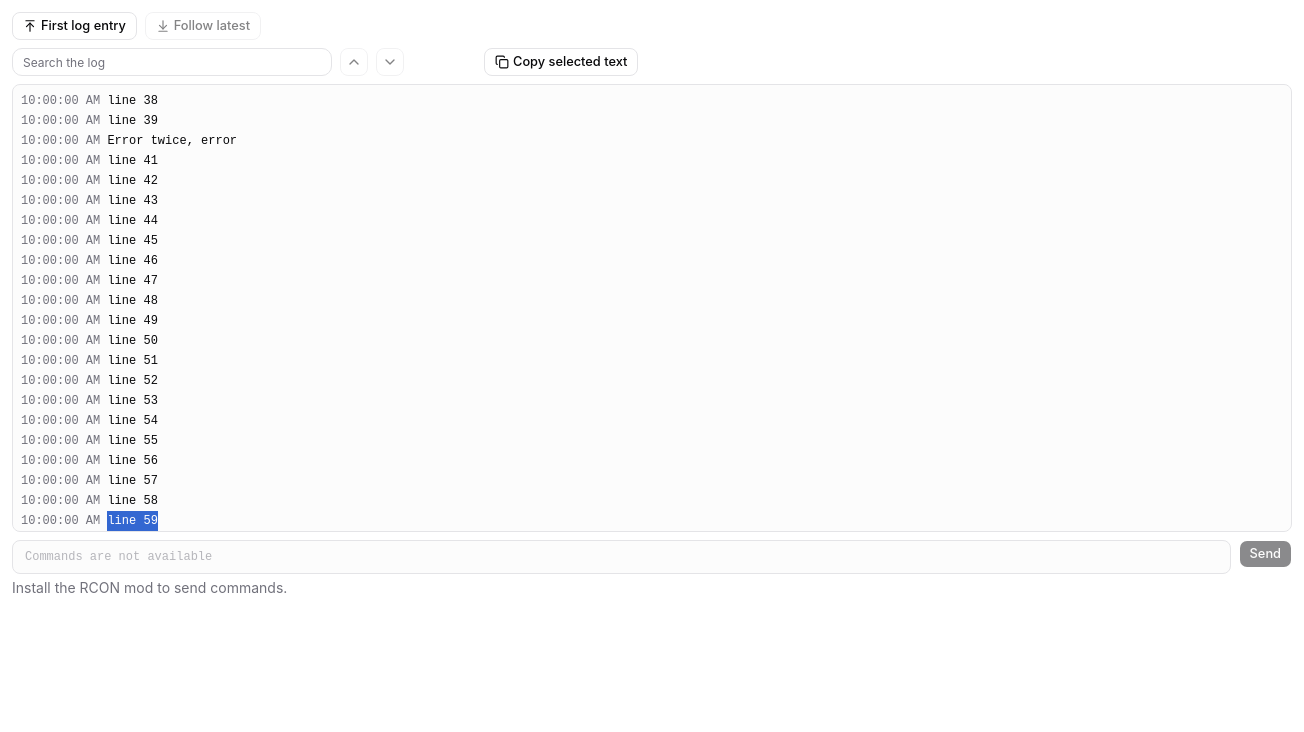
Scenario: copying the selected text › says the copy was refused and what to do instead
(page scrolled)
Click the button "Copy selected text". click: (561, 62)
box: [484, 48, 638, 76]
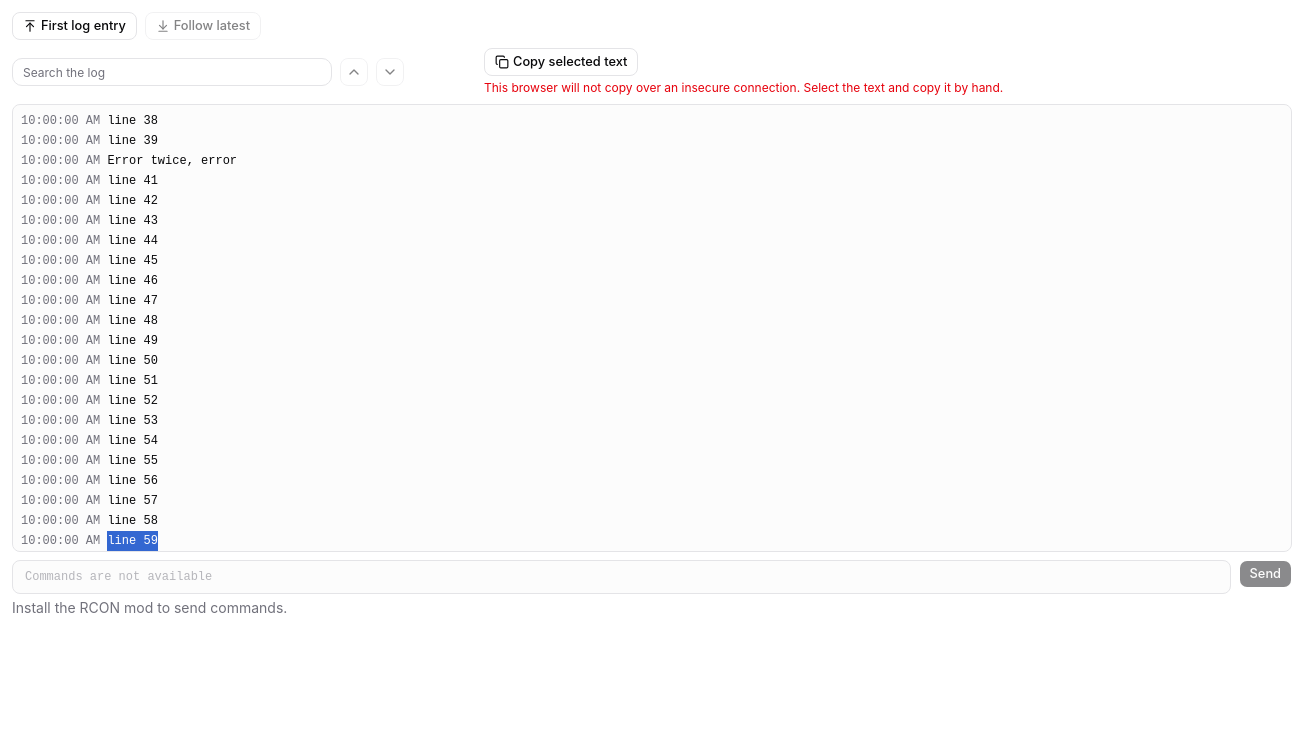
expect the text "Select the text and copy it by hand." is shown: met, box [484, 80, 1003, 95]
